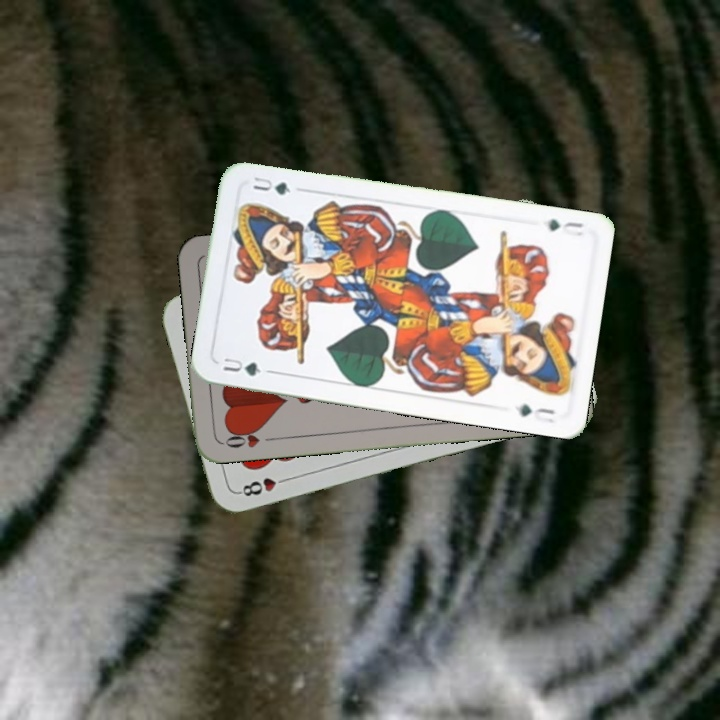GU: (219, 352, 264, 379), (543, 215, 587, 239)
H8: (234, 473, 292, 499)
HO: (219, 424, 278, 451)
